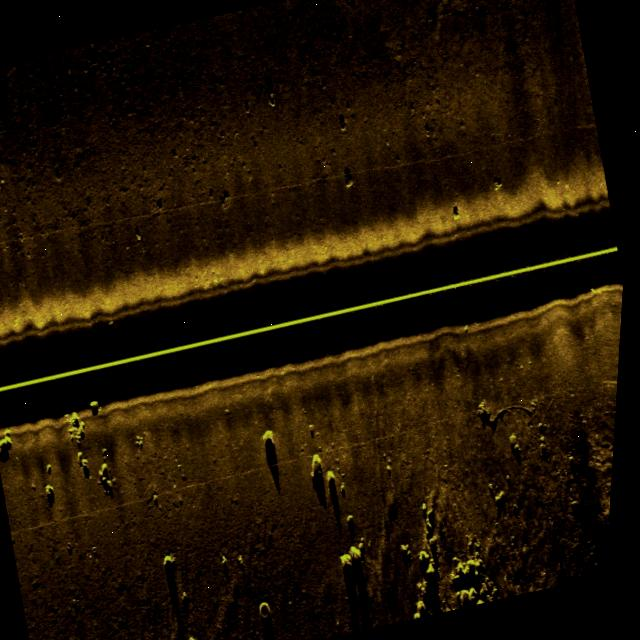mine: (0, 422, 30, 460), (188, 627, 216, 640)
other: (304, 439, 385, 578), (159, 540, 200, 628), (257, 418, 300, 500), (257, 593, 289, 640), (47, 476, 72, 514)
